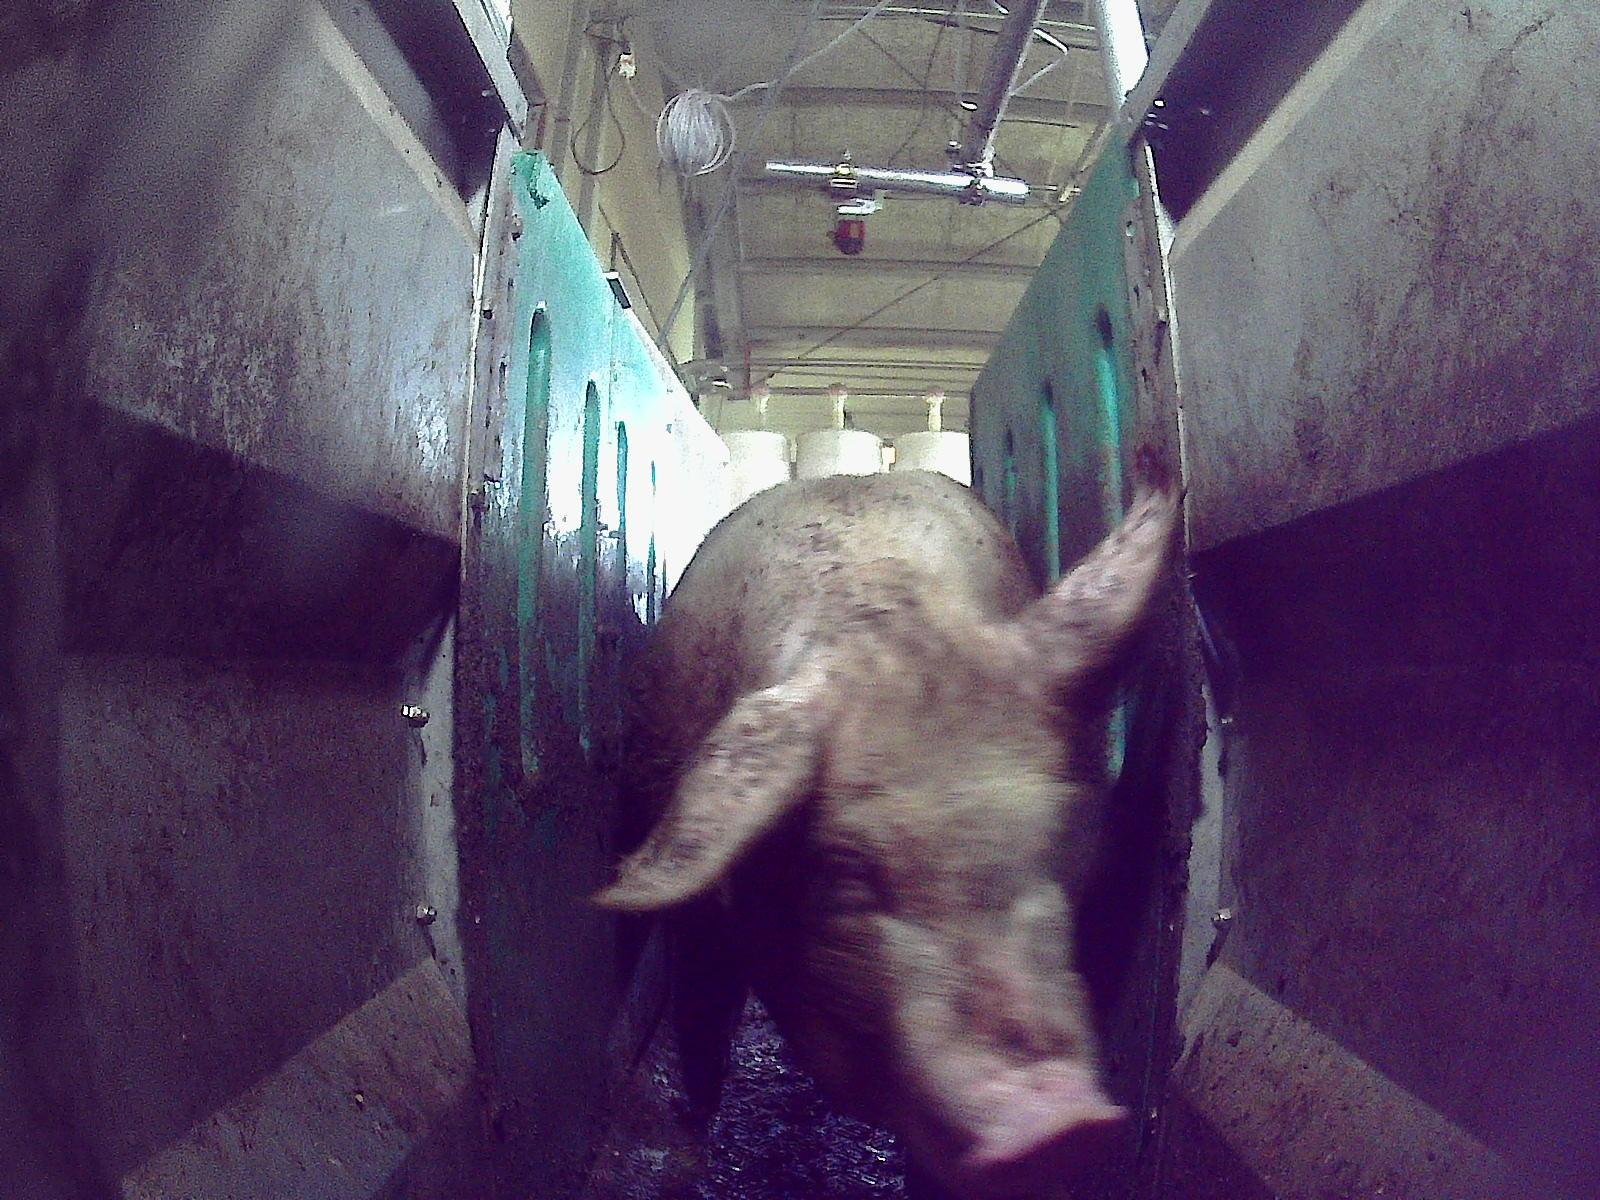Face: (733, 608, 1131, 1198)
